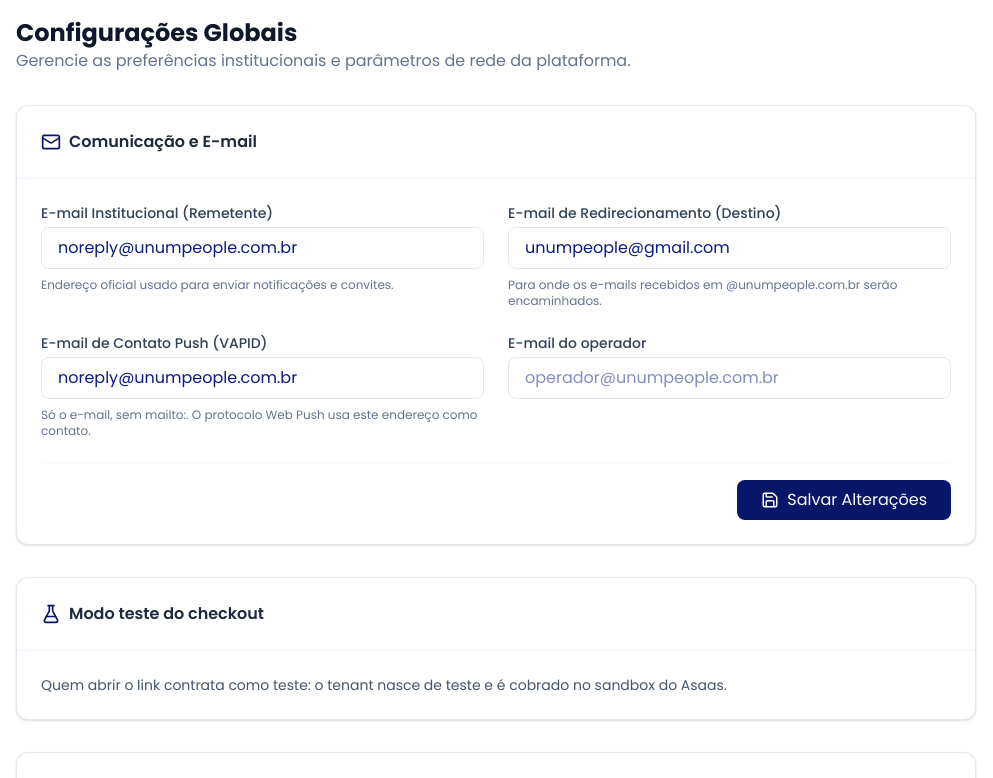
Test: SettingsPage - E-mail do operador › deve exibir erro de validação acessível se o e-mail for inválido
Check: the heading "Configurações Globais" is shown, box x1=16 y1=16 x2=297 y2=49
Type "email-invalido" into the field labelled "E-mail do operador" at [730, 378], box x1=508 y1=357 x2=951 y2=399
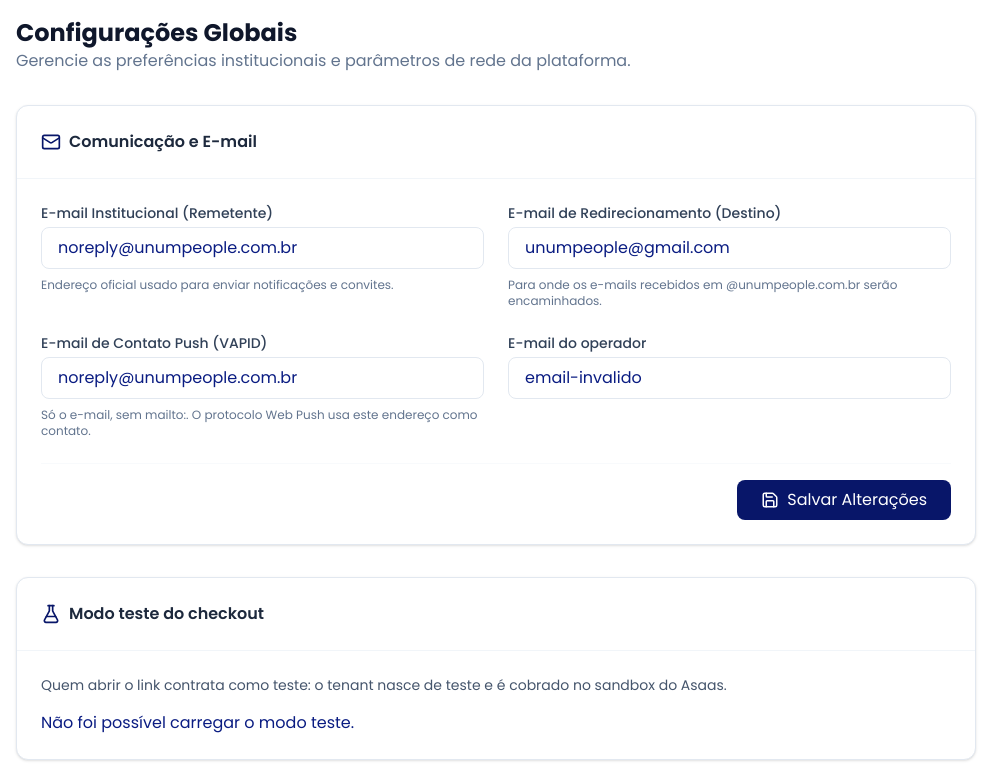
Click the button "Salvar Alterações" at [844, 500], box x1=737 y1=480 x2=951 y2=520
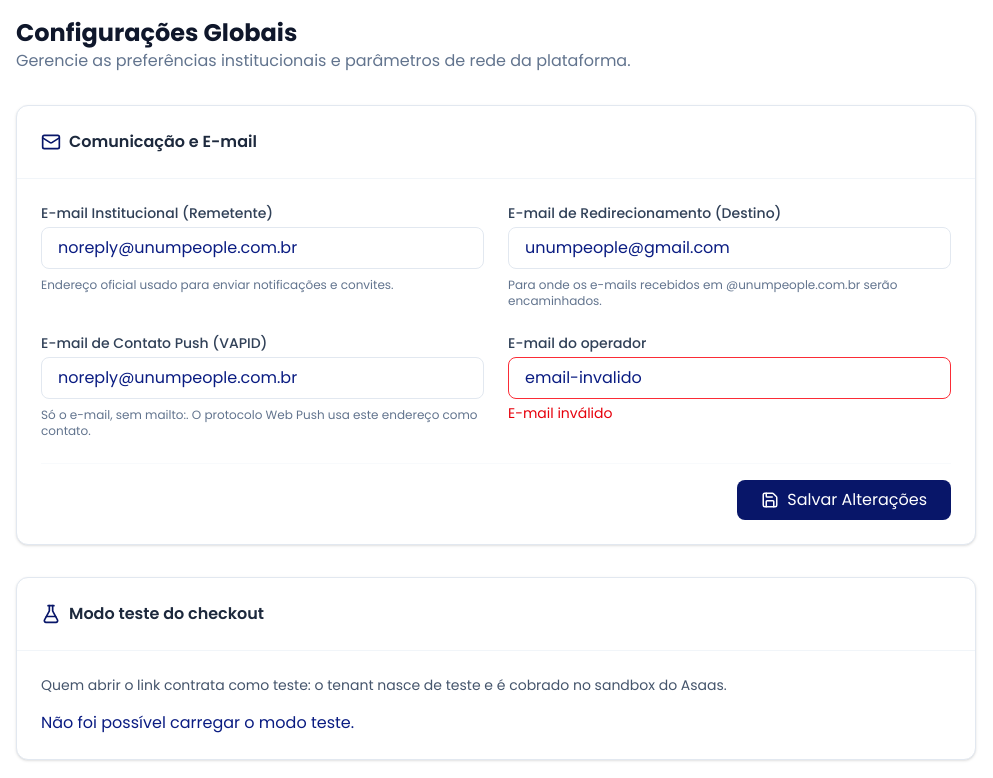
Check: the text "E-mail inválido" is shown, box x1=508 y1=403 x2=612 y2=423
